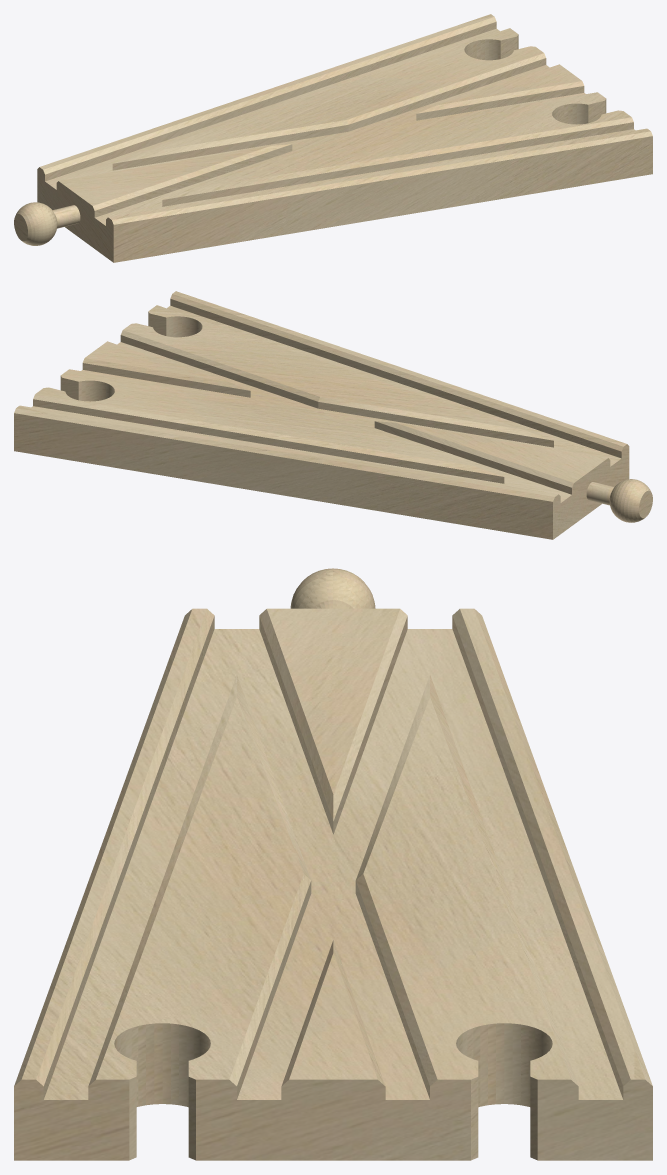
3 renders of one model, top to bottom at view 1: azimuth 30°, elevation 25°; view 2: azimuth 150°, elevation 25°; view 3: azimuth 270°, elevation 25°, orthographic. The views are drawn at different scales.
Parts seen in each view (by area): view 1: SketchUp, _3d_peg; view 2: SketchUp, _3d_peg; view 3: SketchUp, _3d_peg.
Boxes of the visible parts, x1=… form: SketchUp: x1=37, y1=14, x2=652, y2=262; _3d_peg: x1=14, y1=202, x2=80, y2=245; SketchUp: x1=14, y1=291, x2=629, y2=539; _3d_peg: x1=586, y1=479, x2=652, y2=522; SketchUp: x1=14, y1=608, x2=652, y2=1160; _3d_peg: x1=290, y1=568, x2=375, y2=608.
Size of the model in its own units: 6.56 by 3.39 by 0.4724.
